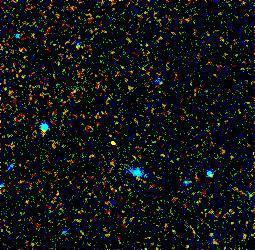star: (97, 130, 127, 160)
